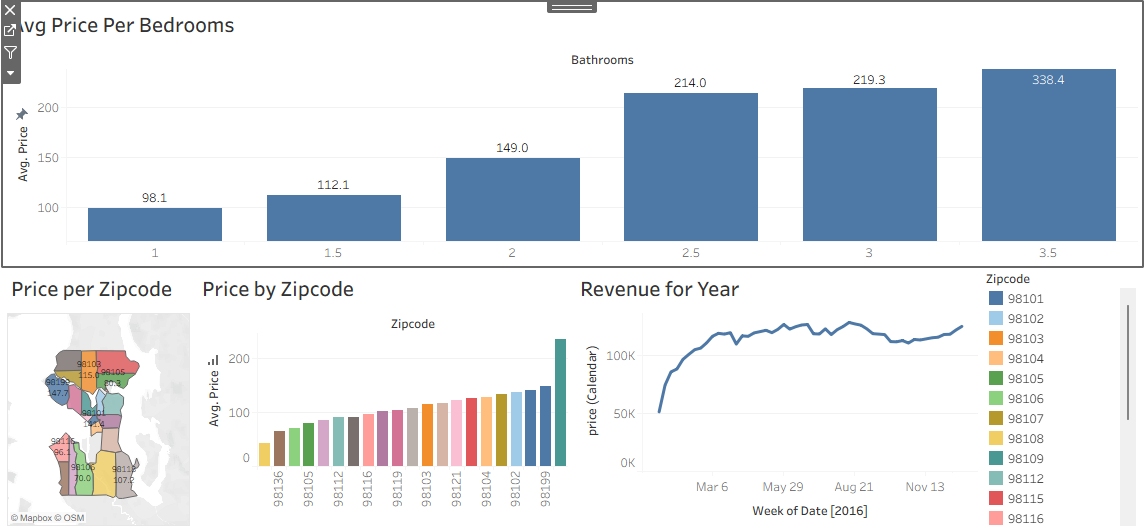

What the dashboard file says about the page in this screenshot:
{"tool":"tableau","page":{"name":"Dashboard 1","canvas":[1000,1000],"units":"permille","ordinal":0},"visuals":[{"type":"worksheet","title":"Sheet 4","mark":"Automatic","rows":["price"],"cols":["bathrooms"],"box":[6.9,14.7,986.1,485.3]},{"type":"worksheet","title":"Sheet 2","mark":"Multipolygon","box":[6.9,500,165.4,485.3]},{"type":"worksheet","title":"Sheet 1","mark":"Automatic","rows":["price"],"cols":["zipcode"],"box":[172.3,500,273.6,485.3]},{"type":"worksheet","title":"Sheet 3","mark":"Automatic","rows":["price (Calendar)"],"cols":["date"],"box":[445.9,500,408.7,485.3]},{"type":"legend","title":"Sheet 1","param":"[federated.18j1ia60bhyi6c17i7jil0ai28h6].[none:zipcode:ok]","box":[854.5,500,138.5,485.3]}]}

Visuals, with their boxes on the dashboard's canvas, which has no fixed pixel size, in thousandths of its width and height (x1, y1, x2, y2). These are canvas units, not pixel positions in the 1147x531 screenshot, which may show the page scaled, cropped or inside an application window:
"Sheet 4" worksheet: box(7, 15, 993, 500)
"Sheet 2" worksheet (Multipolygon marks): box(7, 500, 172, 985)
"Sheet 1" worksheet: box(172, 500, 446, 985)
"Sheet 3" worksheet: box(446, 500, 855, 985)
"Sheet 1" legend: box(854, 500, 993, 985)
